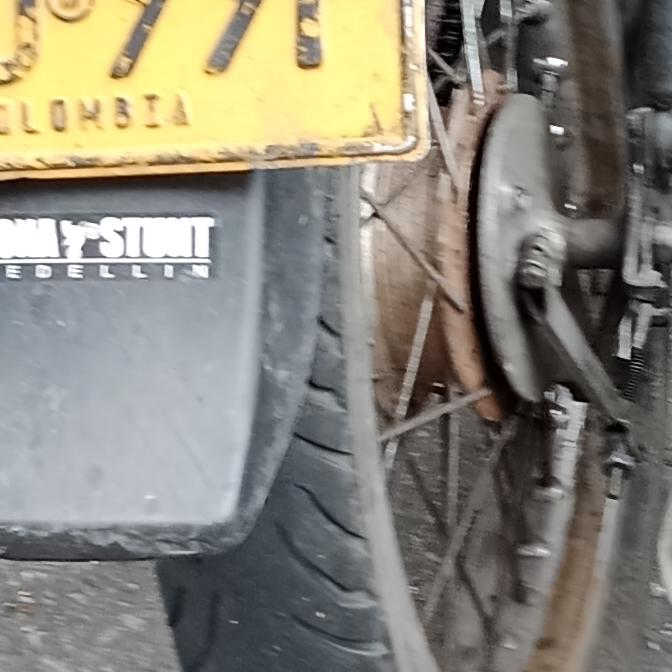plates: (0, 0, 436, 179)
